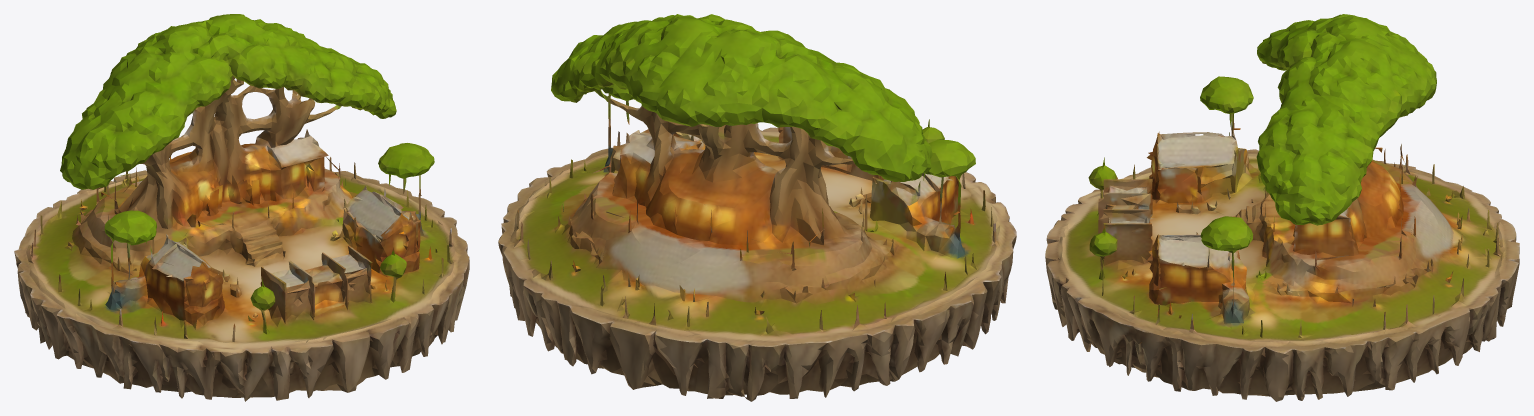
The picture shows the model from 3 angles, left to right: view 1: azimuth 30°, elevation 25°; view 2: azimuth 150°, elevation 25°; view 3: azimuth 270°, elevation 25°; orthographic projection. The views are drawn at different scales.
Visible parts, largest first — view 1: 046; view 2: 046; view 3: 046.
Part boxes in pixels (<box>): 046: <box>14,14,469,401</box>; 046: <box>498,14,1016,401</box>; 046: <box>1045,14,1519,401</box>.
Bounding box in the file's own units: 1.91 × 1.21 × 1.88.
Materials: 1 (1 with a texture image).
